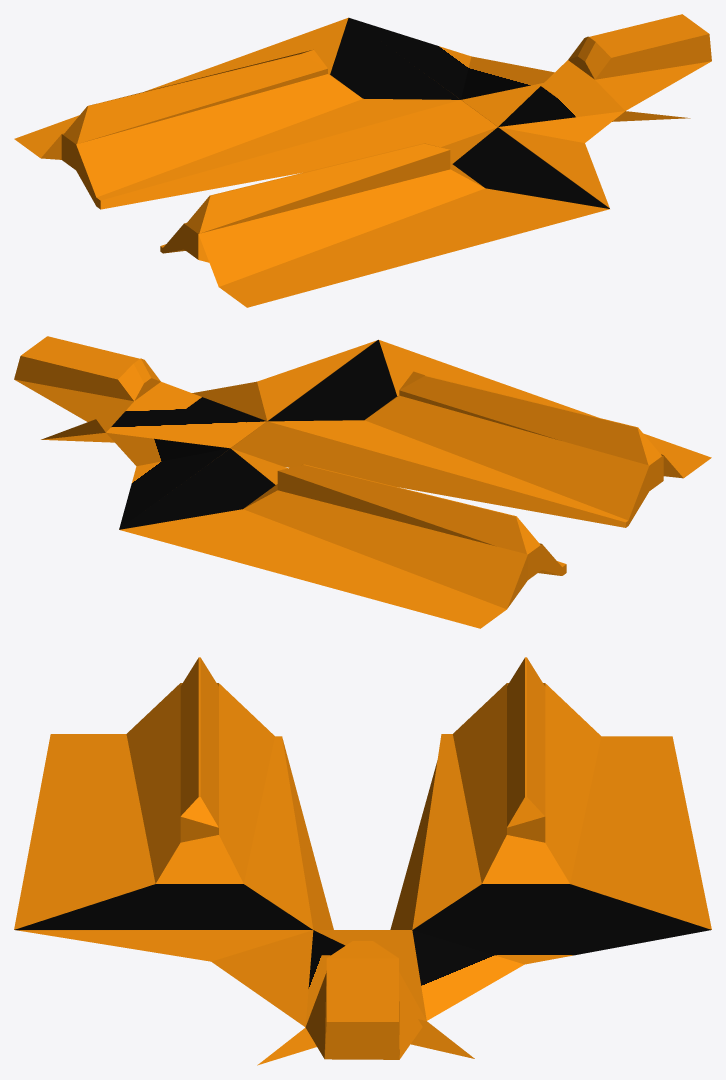
Rendered from spaceship.fbx.
3 renders of one model, top to bottom at view 1: azimuth 30°, elevation 25°; view 2: azimuth 150°, elevation 25°; view 3: azimuth 270°, elevation 25°, orthographic. The views are drawn at different scales.
Parts seen in each view (by area): view 1: Plane; view 2: Plane; view 3: Plane.
Boxes of the visible parts, <box> form: Plane: <box>14,14,711,307</box>; Plane: <box>14,336,711,628</box>; Plane: <box>14,657,711,1065</box>.
Bounding box in the file's own units: 8.89 × 1.92 × 11.22.
Materials: 1 (1 with a texture image).
